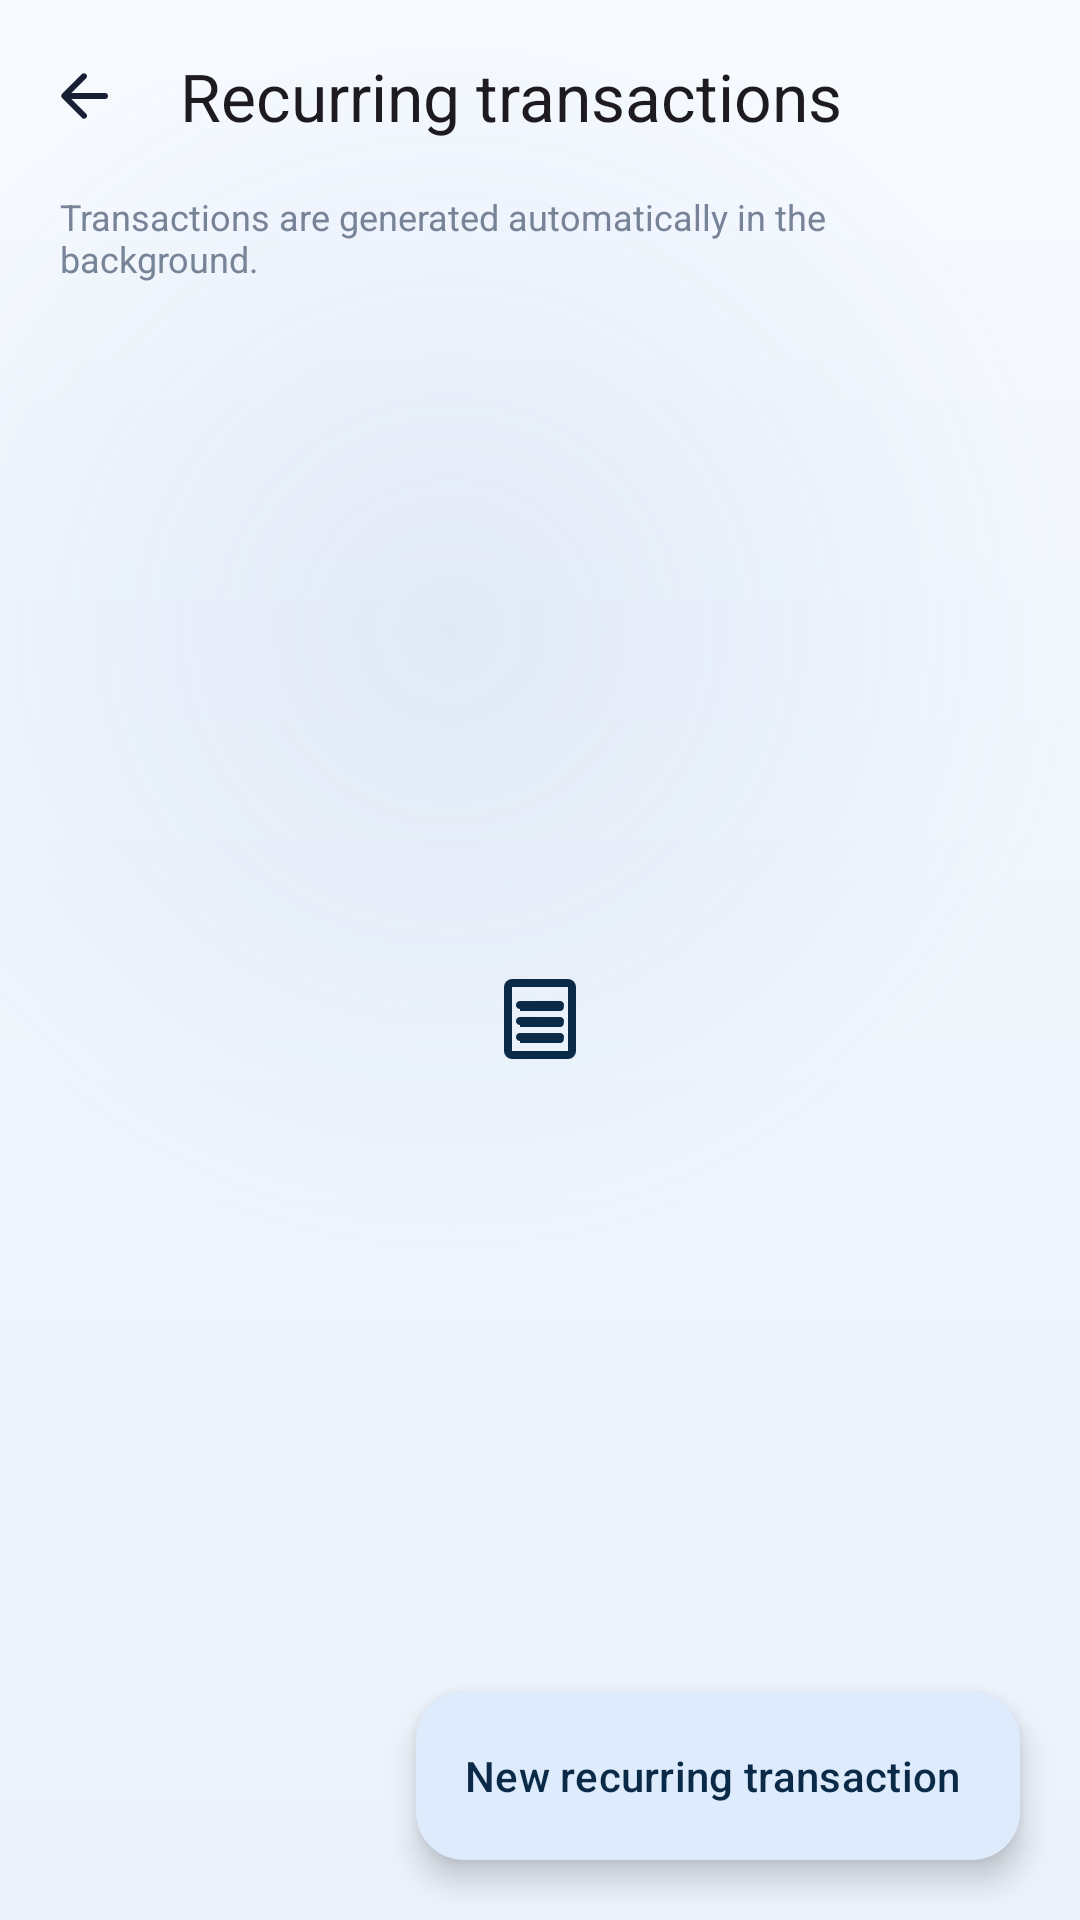

Named icons in this screenshot (1080x1920) and their bounding boxes, Rect(x1, y1, x2, y2):
transactions: Rect(504, 979, 576, 1059)
